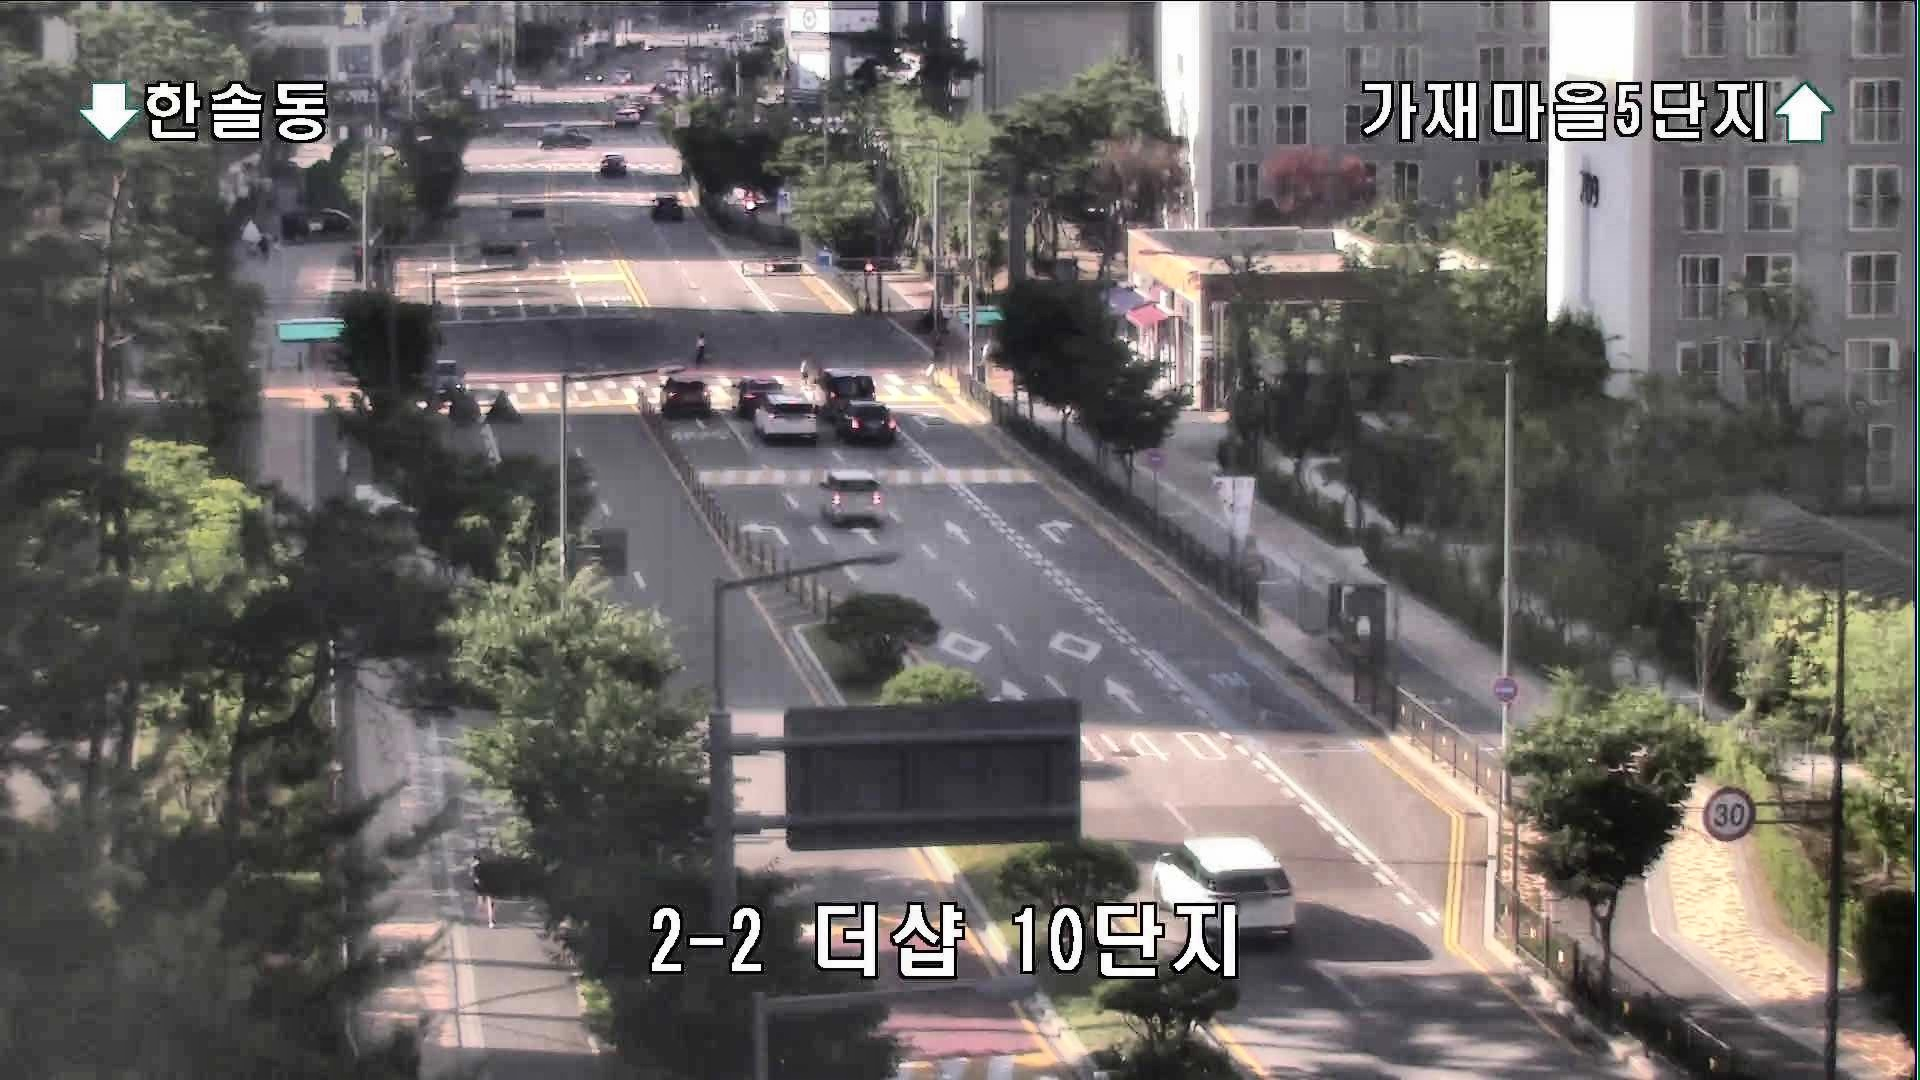crosswalk: (692, 331, 705, 368), (799, 353, 810, 388)
sidewalk: (468, 847, 495, 930), (334, 429, 353, 477)
